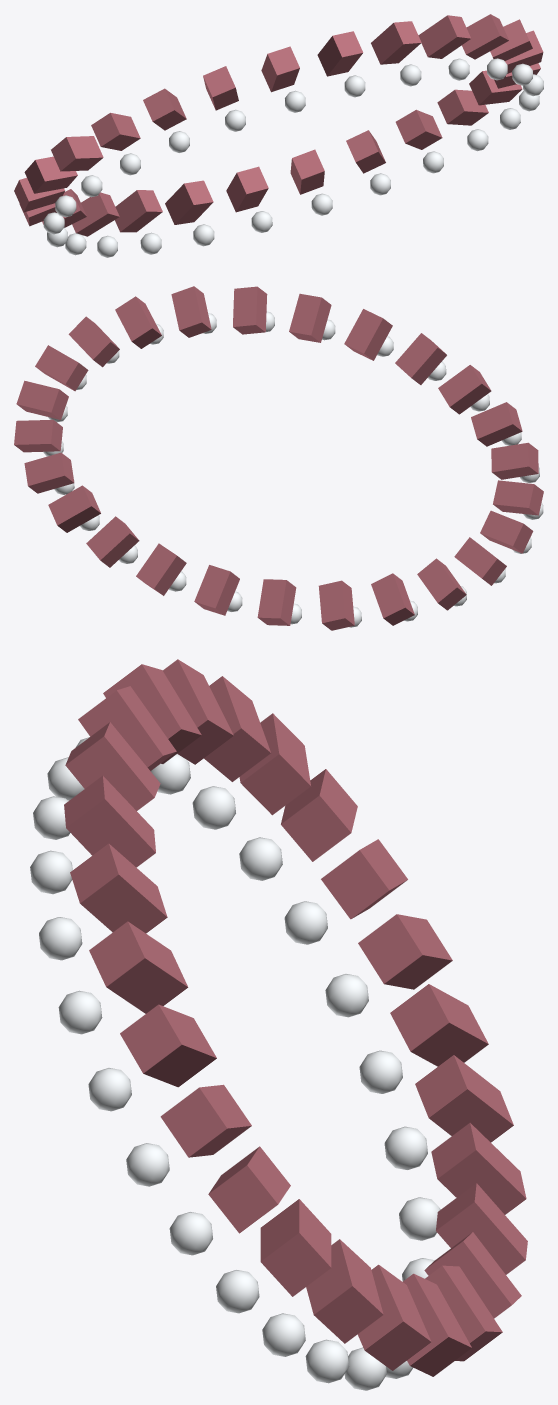
Rendered from sacred-knot-bracelet.glb.
The picture shows the model from 3 angles, top to bottom: view 1: azimuth 30°, elevation 25°; view 2: azimuth 150°, elevation 25°; view 3: azimuth 270°, elevation 25°; orthographic projection. The views are drawn at different scales.
Visible parts, largest first — view 1: bracelet_link (×24), bracelet_gem (×24); view 2: bracelet_link (×25); view 3: bracelet_link (×25), bracelet_gem (×20).
Boxes of the visible parts, left/top/right/bottom form: bracelet_link (×24): left=14, top=14, right=543, bottom=236; bracelet_gem (×24): left=43, top=58, right=543, bottom=257; bracelet_link (×25): left=14, top=286, right=543, bottom=630; bracelet_link (×25): left=64, top=659, right=527, bottom=1376; bracelet_gem (×20): left=30, top=754, right=440, bottom=1390.
Bounding box in the file's own units: 2.32 × 1.13 × 0.9882.
